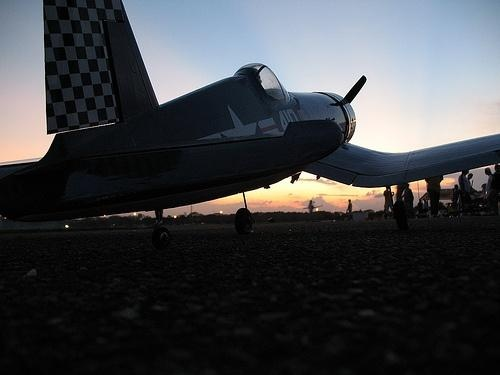aeroplane: (3, 3, 370, 245)
